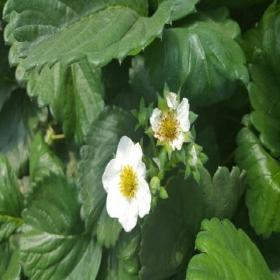Blossom Blight: (153, 110, 183, 145)
